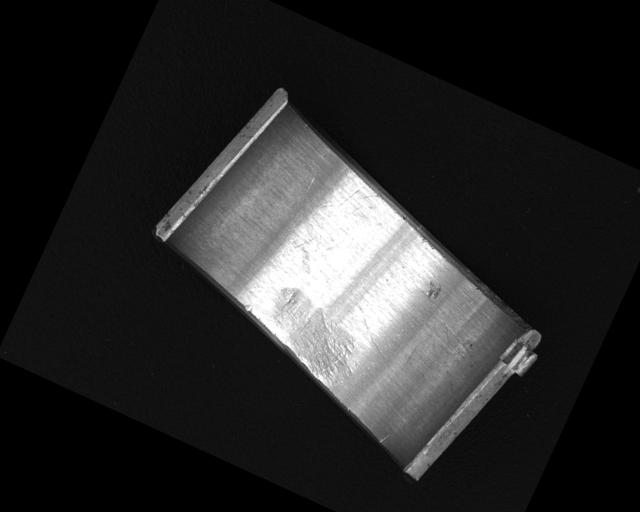blot: (276, 217, 339, 283)
bruise: (421, 278, 444, 302), (240, 301, 254, 314)
nick: (379, 432, 391, 446)
scratch: (253, 280, 378, 392)
